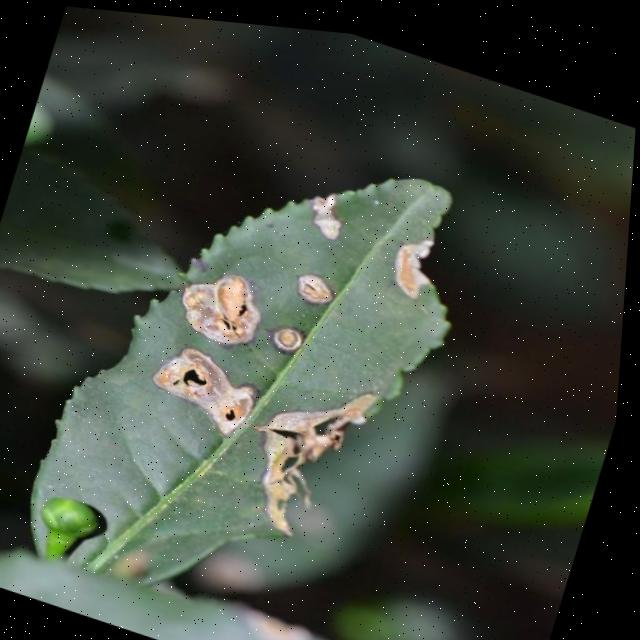Tea cloud leaf blight: (229, 329, 392, 558), (113, 319, 278, 449), (157, 235, 283, 351), (365, 201, 444, 302), (290, 168, 361, 236), (284, 256, 353, 313), (263, 309, 317, 350)
